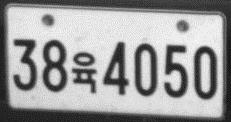0: (133, 42, 158, 97), (192, 45, 217, 100)
3: (12, 38, 37, 91)
4: (103, 39, 129, 97)
5: (164, 44, 188, 98)
8: (41, 39, 67, 93)
육: (70, 50, 97, 95)
